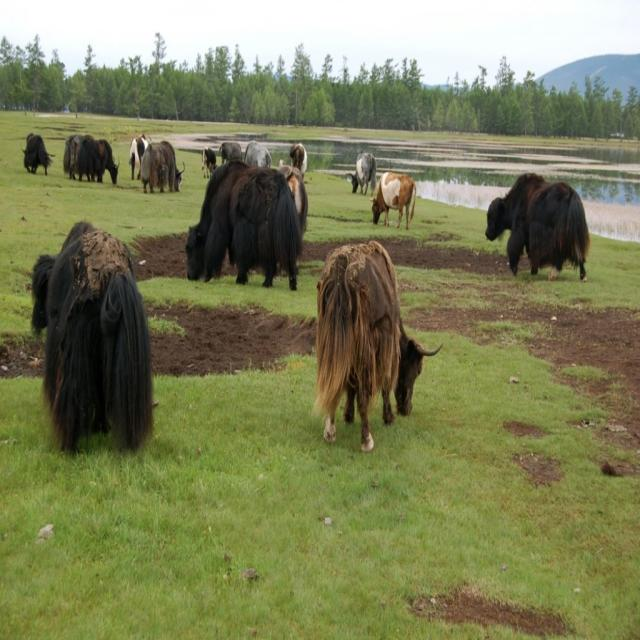Cattle: (21, 132, 417, 292), (31, 219, 156, 454), (314, 240, 443, 451), (486, 173, 591, 283)
